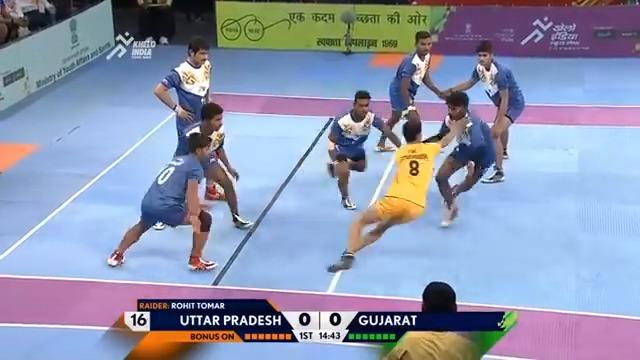Player: (151, 35, 254, 231), (105, 128, 221, 273), (441, 39, 526, 183), (324, 88, 401, 211), (375, 30, 450, 151)
Raider: (324, 98, 465, 274)
referee: (381, 280, 482, 359)
